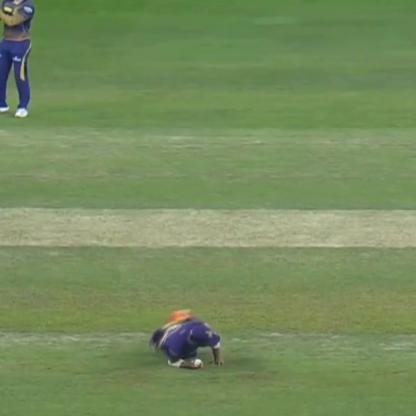ball: (191, 356, 203, 368)
